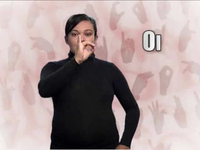oi: (72, 36, 97, 63)
